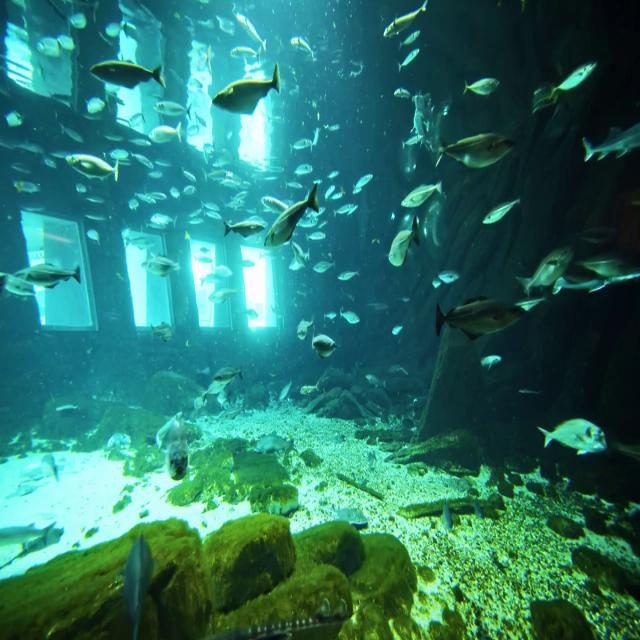fish: (433, 292, 525, 351), (430, 122, 510, 172), (212, 66, 284, 120), (262, 186, 318, 252), (88, 58, 166, 92), (536, 415, 604, 453)
